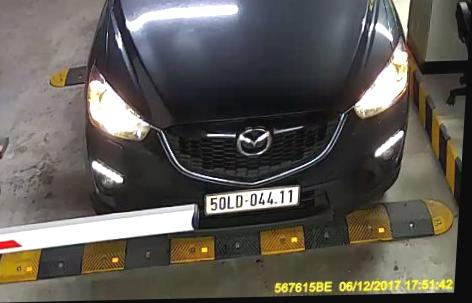License_Plate: (201, 184, 305, 216)
